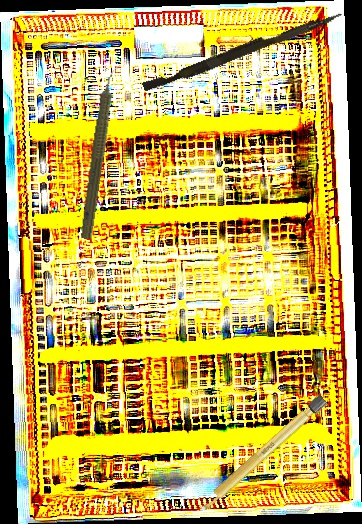Handpiece: (77, 62, 124, 241)
Pusher: (141, 4, 344, 97)
Scalpel Handle: (195, 393, 328, 516)
